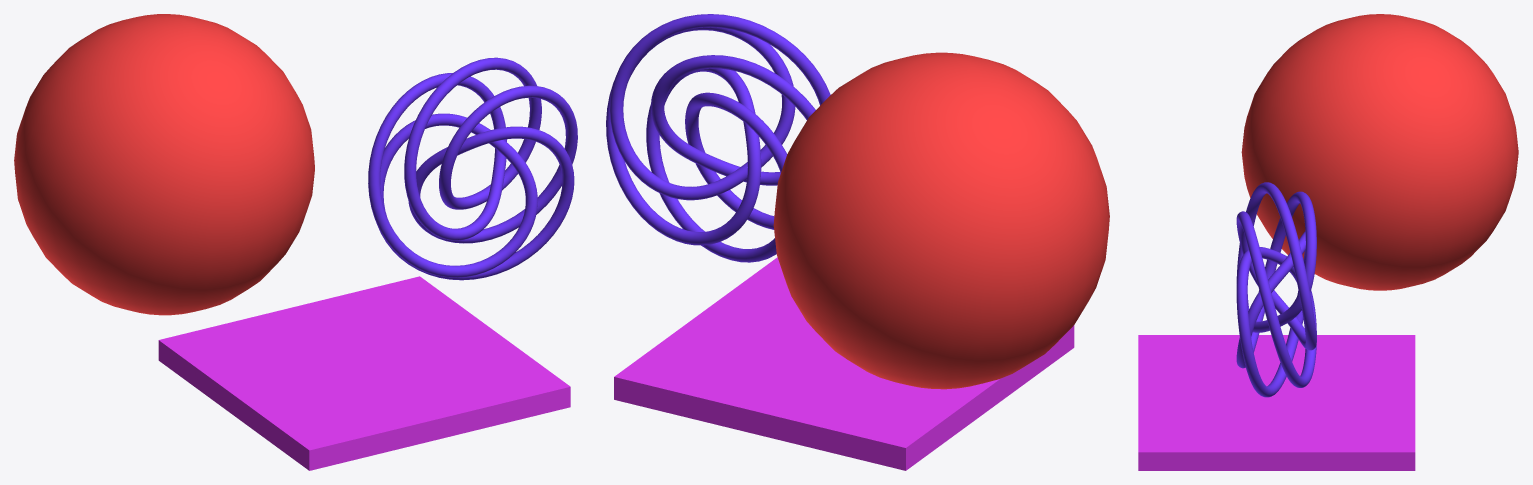
Rendered from ball-scene.glb.
3 renders of one model, left to right at view 1: azimuth 30°, elevation 25°; view 2: azimuth 150°, elevation 25°; view 3: azimuth 270°, elevation 25°, orthographic. The views are drawn at different scales.
Visible parts, largest first — view 1: Sphere, Box, TorusKnot; view 2: Sphere, Box, TorusKnot; view 3: Sphere, Box, TorusKnot.
Boxes of the visible parts, left/top/right/bottom form: Sphere: left=14, top=14, right=314, bottom=315; Box: left=158, top=276, right=570, bottom=470; TorusKnot: left=368, top=57, right=577, bottom=280; Sphere: left=773, top=52, right=1109, bottom=389; Box: left=614, top=257, right=1074, bottom=470; TorusKnot: left=606, top=14, right=830, bottom=262; Sphere: left=1241, top=14, right=1518, bottom=290; Box: left=1138, top=335, right=1415, bottom=470; TorusKnot: left=1236, top=182, right=1316, bottom=397.
Bounding box in the file's own units: 7.44 × 5.12 × 5.49.
